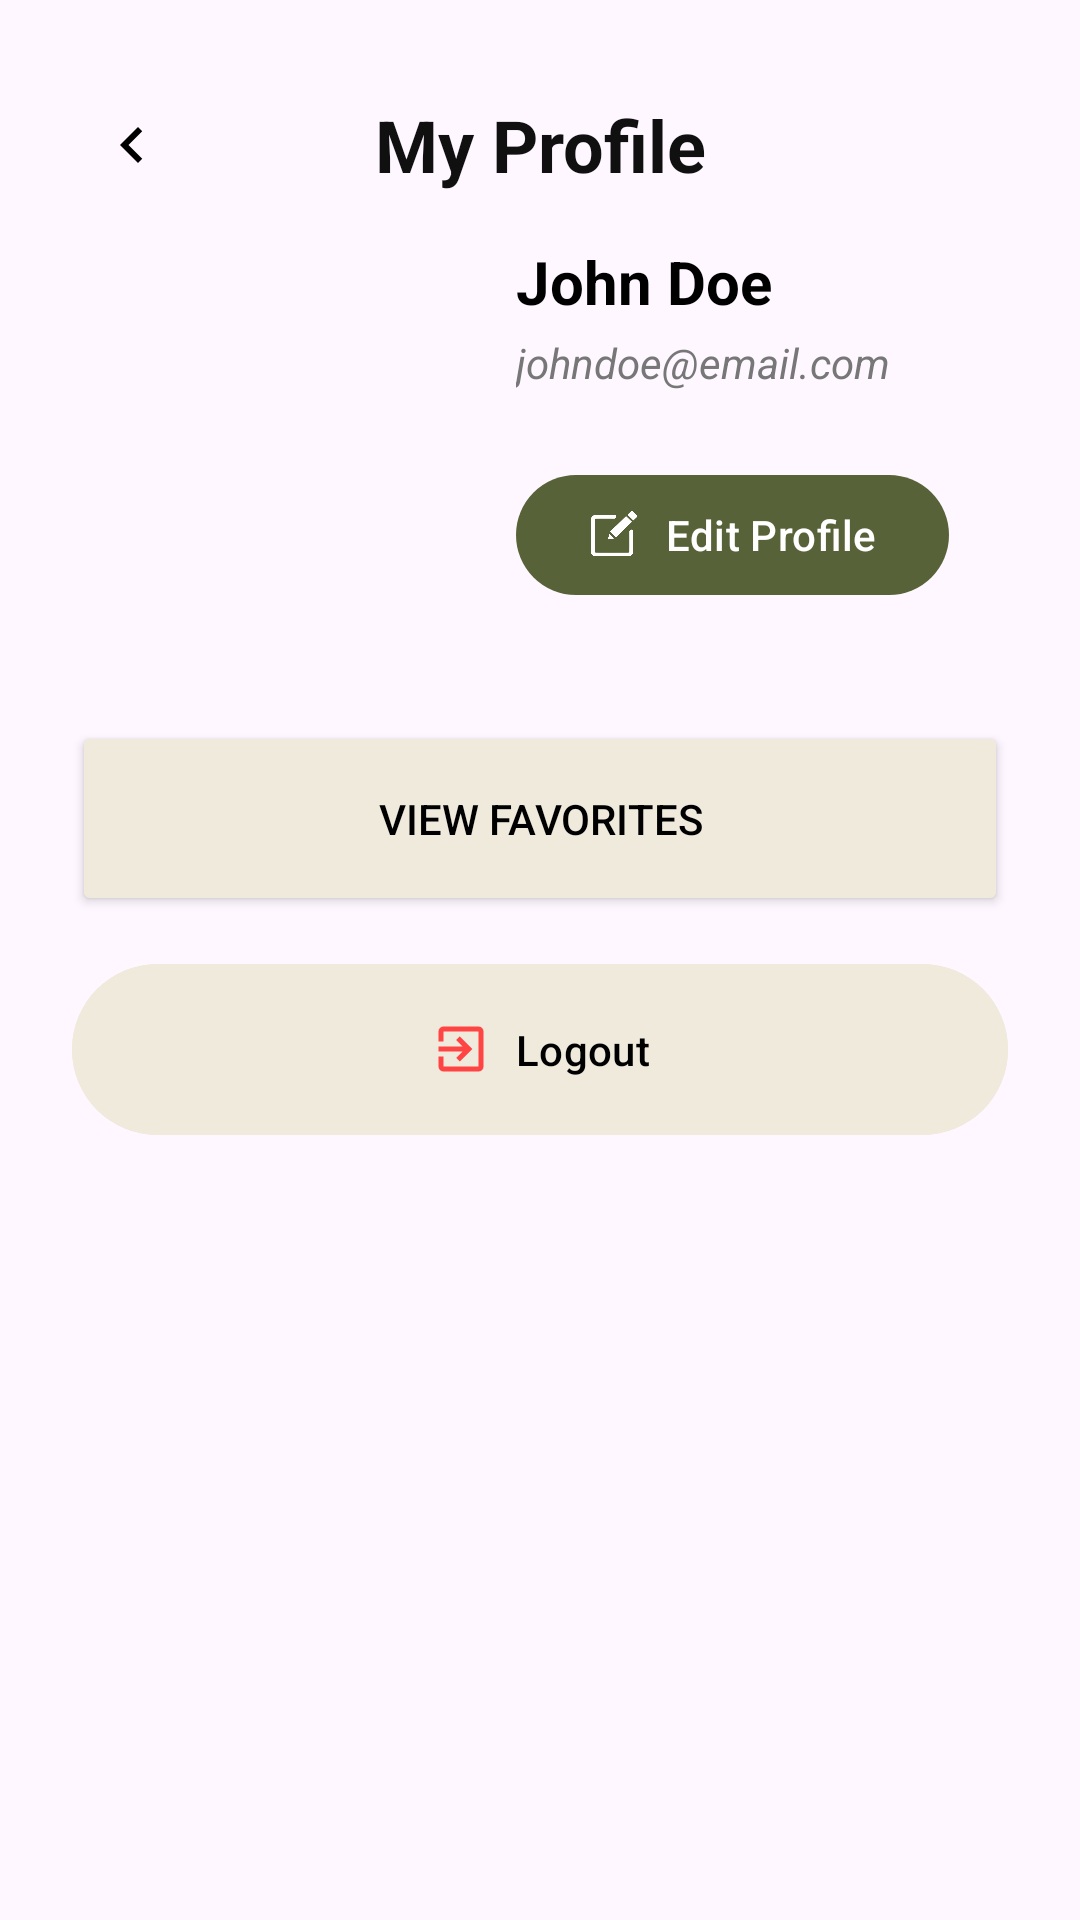

Named icons in this screenshot (1080px×1920px) and their centers, point (x, y):
Back button: point (131, 145)
